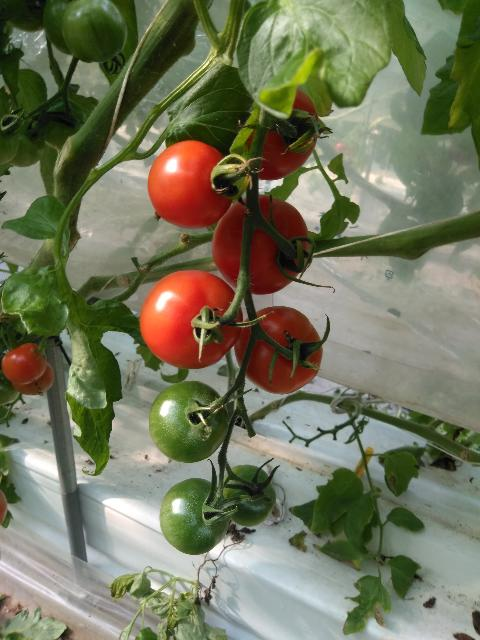l_fully_ripened: (140, 269, 243, 369), (212, 193, 310, 296), (233, 306, 323, 395), (148, 139, 234, 230), (245, 86, 318, 181), (2, 343, 47, 385)
l_green: (148, 380, 229, 464), (159, 477, 231, 555), (63, 0, 128, 63), (219, 465, 277, 527), (43, 0, 73, 57), (0, 0, 50, 33)
l_half_ripened: (11, 362, 53, 395)
